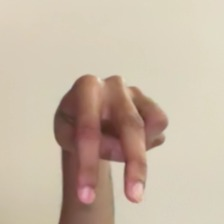N: (33, 59, 174, 214)
